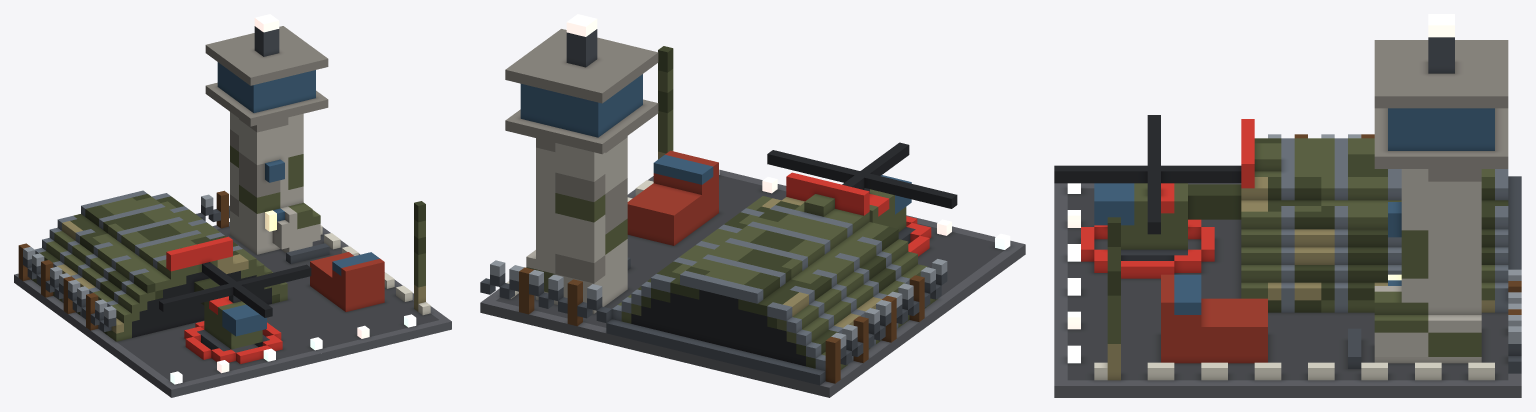
The model's file is cm_airfield_0.glb.
The picture shows the model from 3 angles, left to right: view 1: azimuth 30°, elevation 25°; view 2: azimuth 150°, elevation 25°; view 3: azimuth 270°, elevation 25°; orthographic projection. The views are drawn at different scales.
Parts seen in each view (by area): view 1: cm_airfield_0_body; view 2: cm_airfield_0_body; view 3: cm_airfield_0_body.
Part boxes in pixels (x1,y1,x2,y2): cm_airfield_0_body: [14, 14, 451, 397]; cm_airfield_0_body: [480, 14, 1025, 397]; cm_airfield_0_body: [1054, 14, 1521, 397].
Bounding box in the file's own units: 2.25 × 1.75 × 2.19.
1 material, 1 textured.
